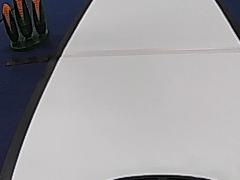corn: (0, 0, 52, 49)
